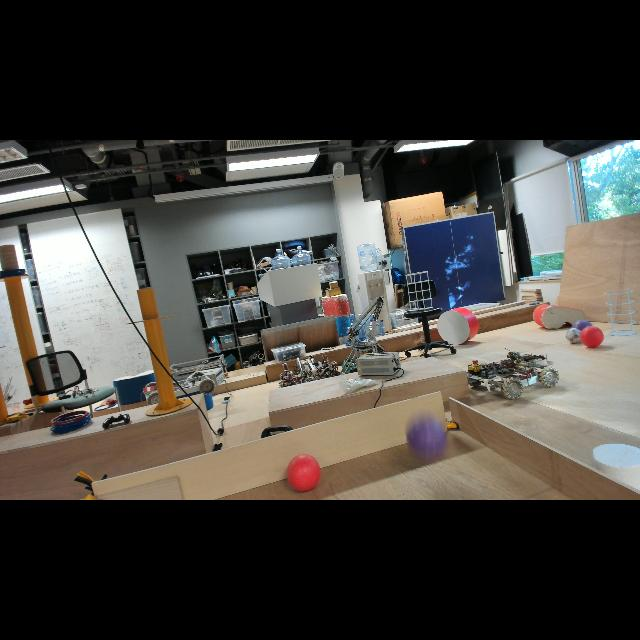P: (404, 412, 448, 458), (571, 320, 593, 340)
R: (286, 453, 322, 492), (580, 326, 604, 348)
S: (604, 288, 638, 338), (404, 270, 436, 312)
